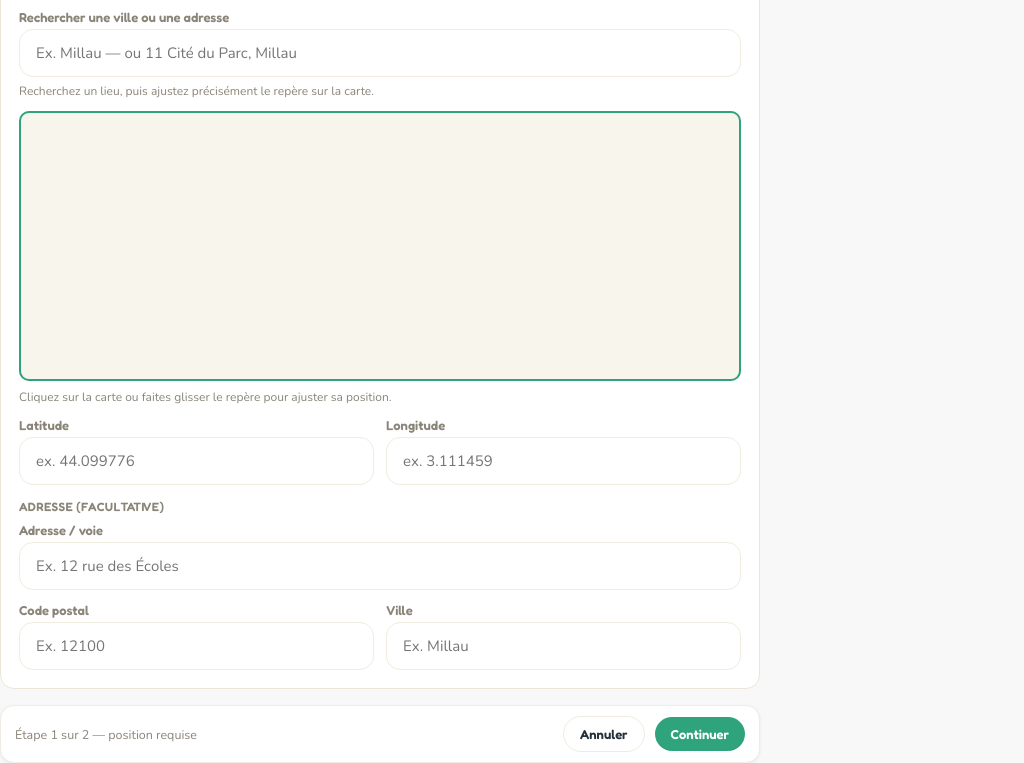
Test: ParkNew — /parks/new (Lot 3C.4) › selecting a suggestion sets the coordinate draft, flies the map — no address touched
The image size is (1024, 763).
(page scrolled)
Type "gardée" into the field labelled "Adresse / voie".
click(380, 566); type("gardée")  # box [19, 542, 741, 590]
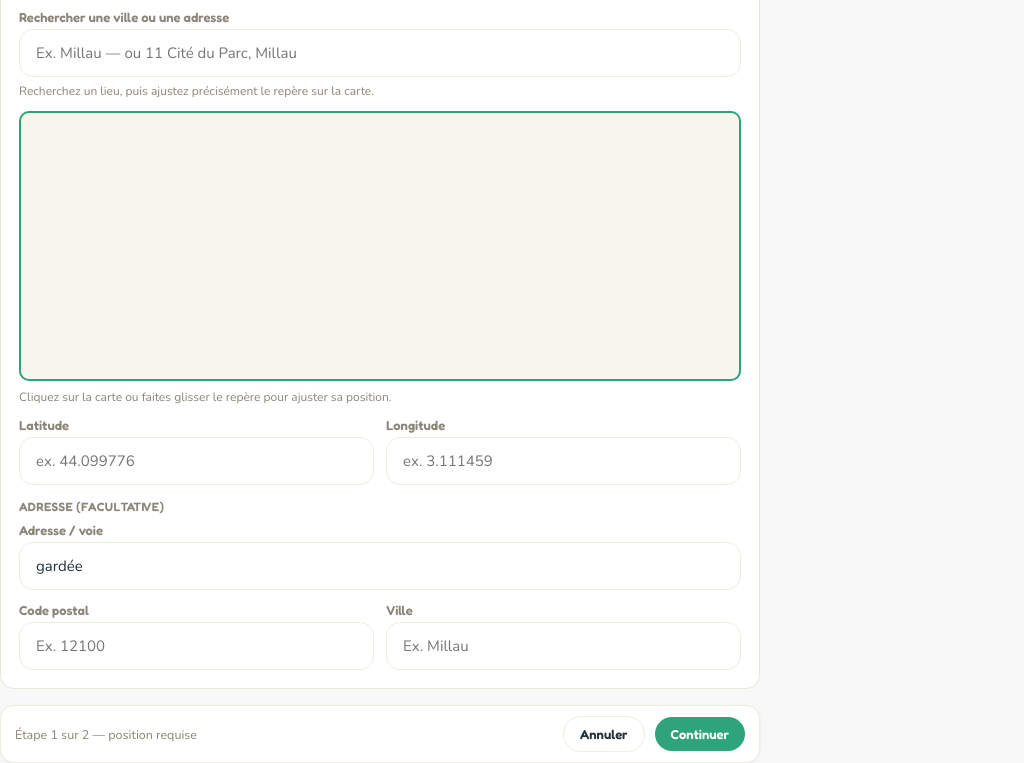
Type "Millau" into the dropdown labelled "Rechercher une ville ou une adresse".
click(380, 53); type("Millau")  # box [19, 29, 741, 77]
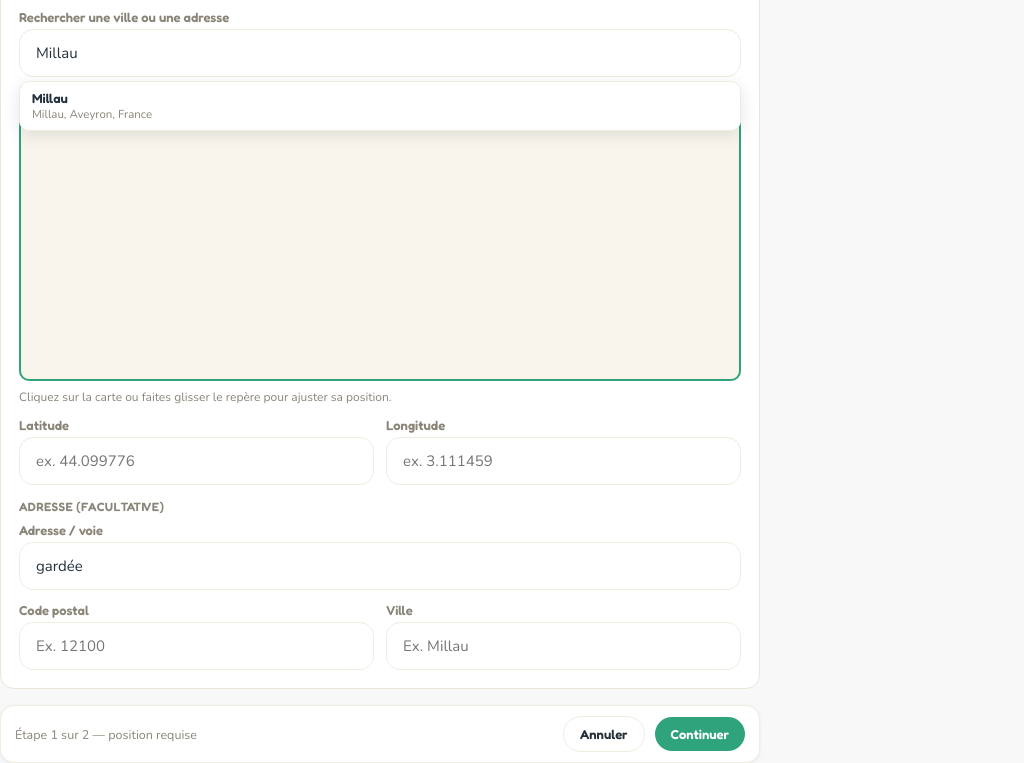
Click the option "Millau Millau, Aveyron, France".
click(50, 98)  # box [20, 82, 740, 130]
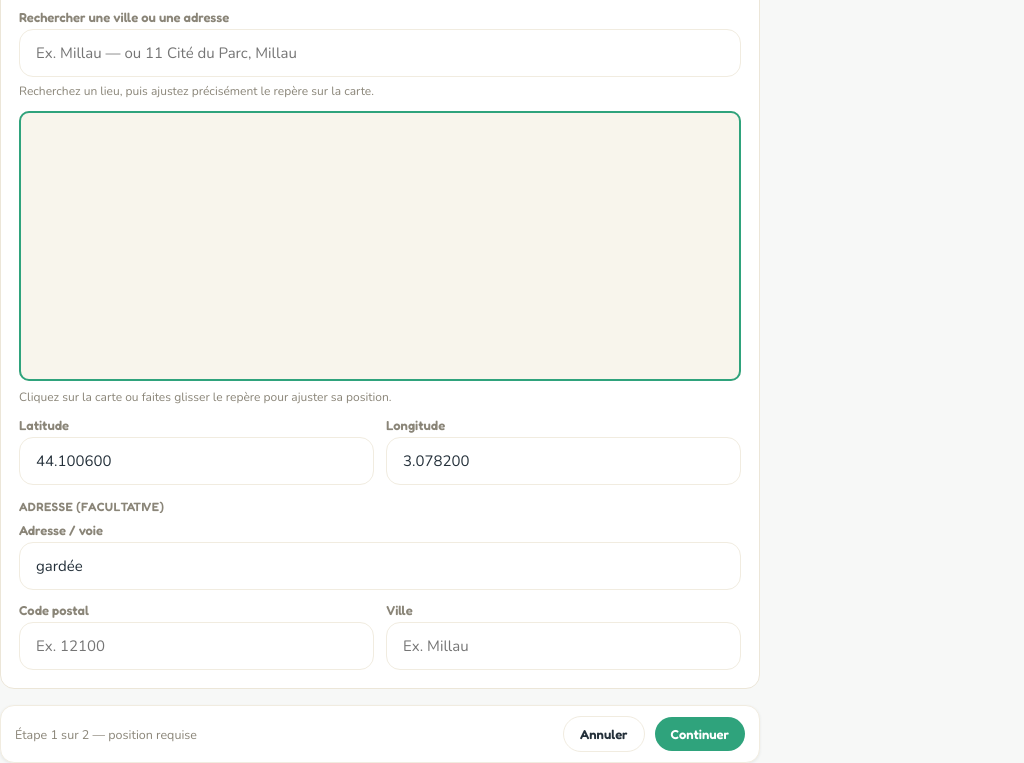
expect the field labelled "Code postal" is empty: met, box [19, 622, 374, 670]
expect the number field labelled "Latitude" holds "44.100600": met, box [19, 437, 374, 485]
expect the number field labelled "Longitude" holds "3.078200": met, box [386, 437, 741, 485]
